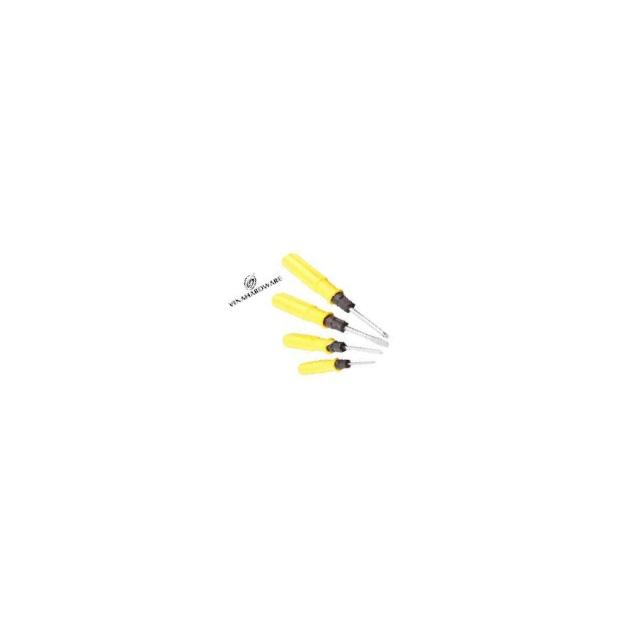screwdriver: (267, 256, 392, 386), (279, 230, 390, 366), (280, 296, 385, 394), (294, 332, 377, 398)
